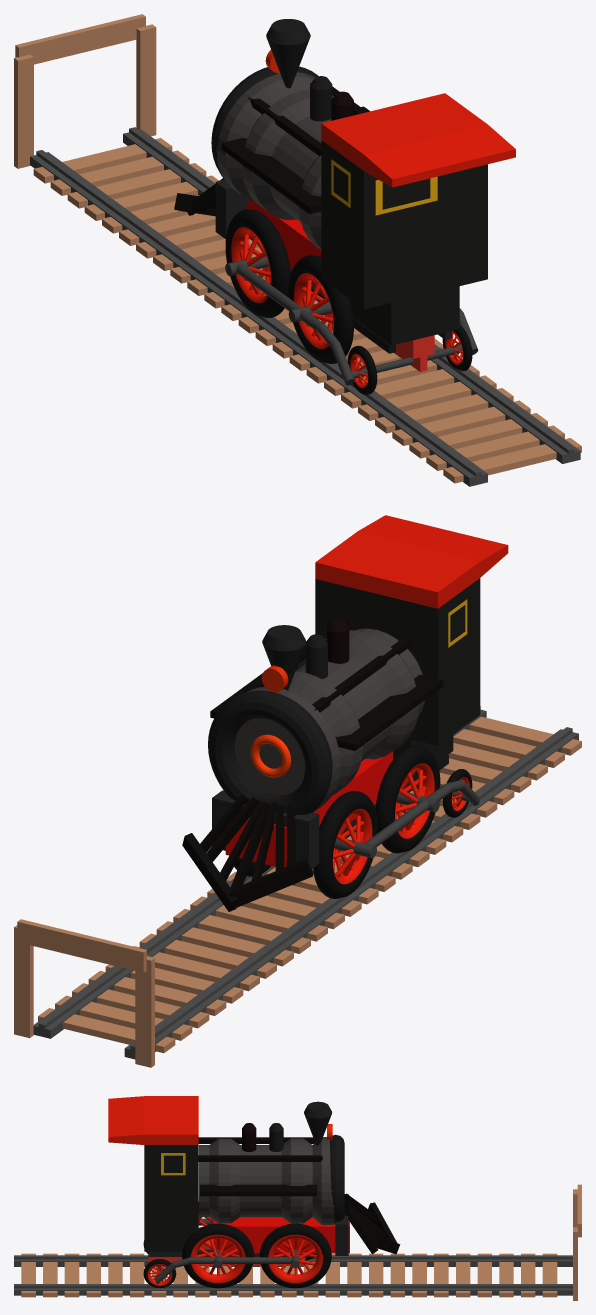
The model's file is keretaApi.fbx.
The picture shows the model from 3 angles, top to bottom: view 1: azimuth 30°, elevation 25°; view 2: azimuth 150°, elevation 25°; view 3: azimuth 270°, elevation 25°; orthographic projection. The views are drawn at different scales.
Visible parts, largest first — view 1: Cube.022, Cube.002, Cylinder.001, Cube, Cube.001, Torus.003, Cube.006, Torus.004, Cube.010, Cube.004, Cube.005, Cone (+13 smaller); view 2: Cube.002, Cube.022, Cylinder.001, Cube, Torus, Cube.001, Cube.006, Torus.003, Torus.004, Cube.010, Cube.011, Cube.005 (+17 smaller); view 3: Cube.022, Cube.002, Cylinder.001, Cube.001, Cube, Cube.011, Torus.008, Torus.006, Cube.009, Torus, Torus.009, Torus.007 (+15 smaller).
Boxes of the visible parts, x1=… form: Cube.022: x1=321, y1=93, x2=515, y2=345; Cube.002: x1=33, y1=138, x2=581, y2=483; Cylinder.001: x1=216, y1=72, x2=333, y2=249; Cube: x1=30, y1=150, x2=487, y2=486; Cube.001: x1=123, y1=127, x2=580, y2=463; Torus.003: x1=225, y1=209, x2=290, y2=317; Cube.006: x1=15, y1=14, x2=145, y2=64; Torus.004: x1=288, y1=255, x2=353, y2=363; Cube.010: x1=221, y1=138, x2=321, y2=214; Cube.004: x1=136, y1=24, x2=156, y2=136; Cube.005: x1=14, y1=54, x2=33, y2=168; Cone: x1=266, y1=19, x2=310, y2=88; Cube.002: x1=38, y1=716, x2=581, y2=1052; Cube.022: x1=315, y1=515, x2=508, y2=779; Cylinder.001: x1=234, y1=628, x2=424, y2=812; Cube: x1=124, y1=727, x2=578, y2=1059; Torus: x1=208, y1=690, x2=332, y2=814; Cube.001: x1=33, y1=706, x2=486, y2=1038; Cube.006: x1=17, y1=919, x2=146, y2=972; Torus.003: x1=313, y1=791, x2=377, y2=898; Torus.004: x1=375, y1=745, x2=440, y2=853; Cube.010: x1=335, y1=674, x2=443, y2=750; Cube.011: x1=225, y1=751, x2=392, y2=867; Cube.005: x1=135, y1=956, x2=154, y2=1067; Cube.022: x1=108, y1=1096, x2=198, y2=1251; Cube.002: x1=21, y1=1253, x2=557, y2=1297; Cylinder.001: x1=199, y1=1137, x2=334, y2=1224; Cube.001: x1=14, y1=1284, x2=572, y2=1295; Cube: x1=14, y1=1255, x2=572, y2=1266; Cube.011: x1=213, y1=1217, x2=349, y2=1253; Torus.008: x1=259, y1=1223, x2=331, y2=1288; Torus.006: x1=182, y1=1223, x2=254, y2=1288; Cube.009: x1=200, y1=1184, x2=317, y2=1196; Torus: x1=330, y1=1134, x2=344, y2=1223; Torus.009: x1=268, y1=1234, x2=322, y2=1283; Torus.007: x1=190, y1=1234, x2=245, y2=1283.
Size of the model in its own units: 306 by 532 by 1580.
